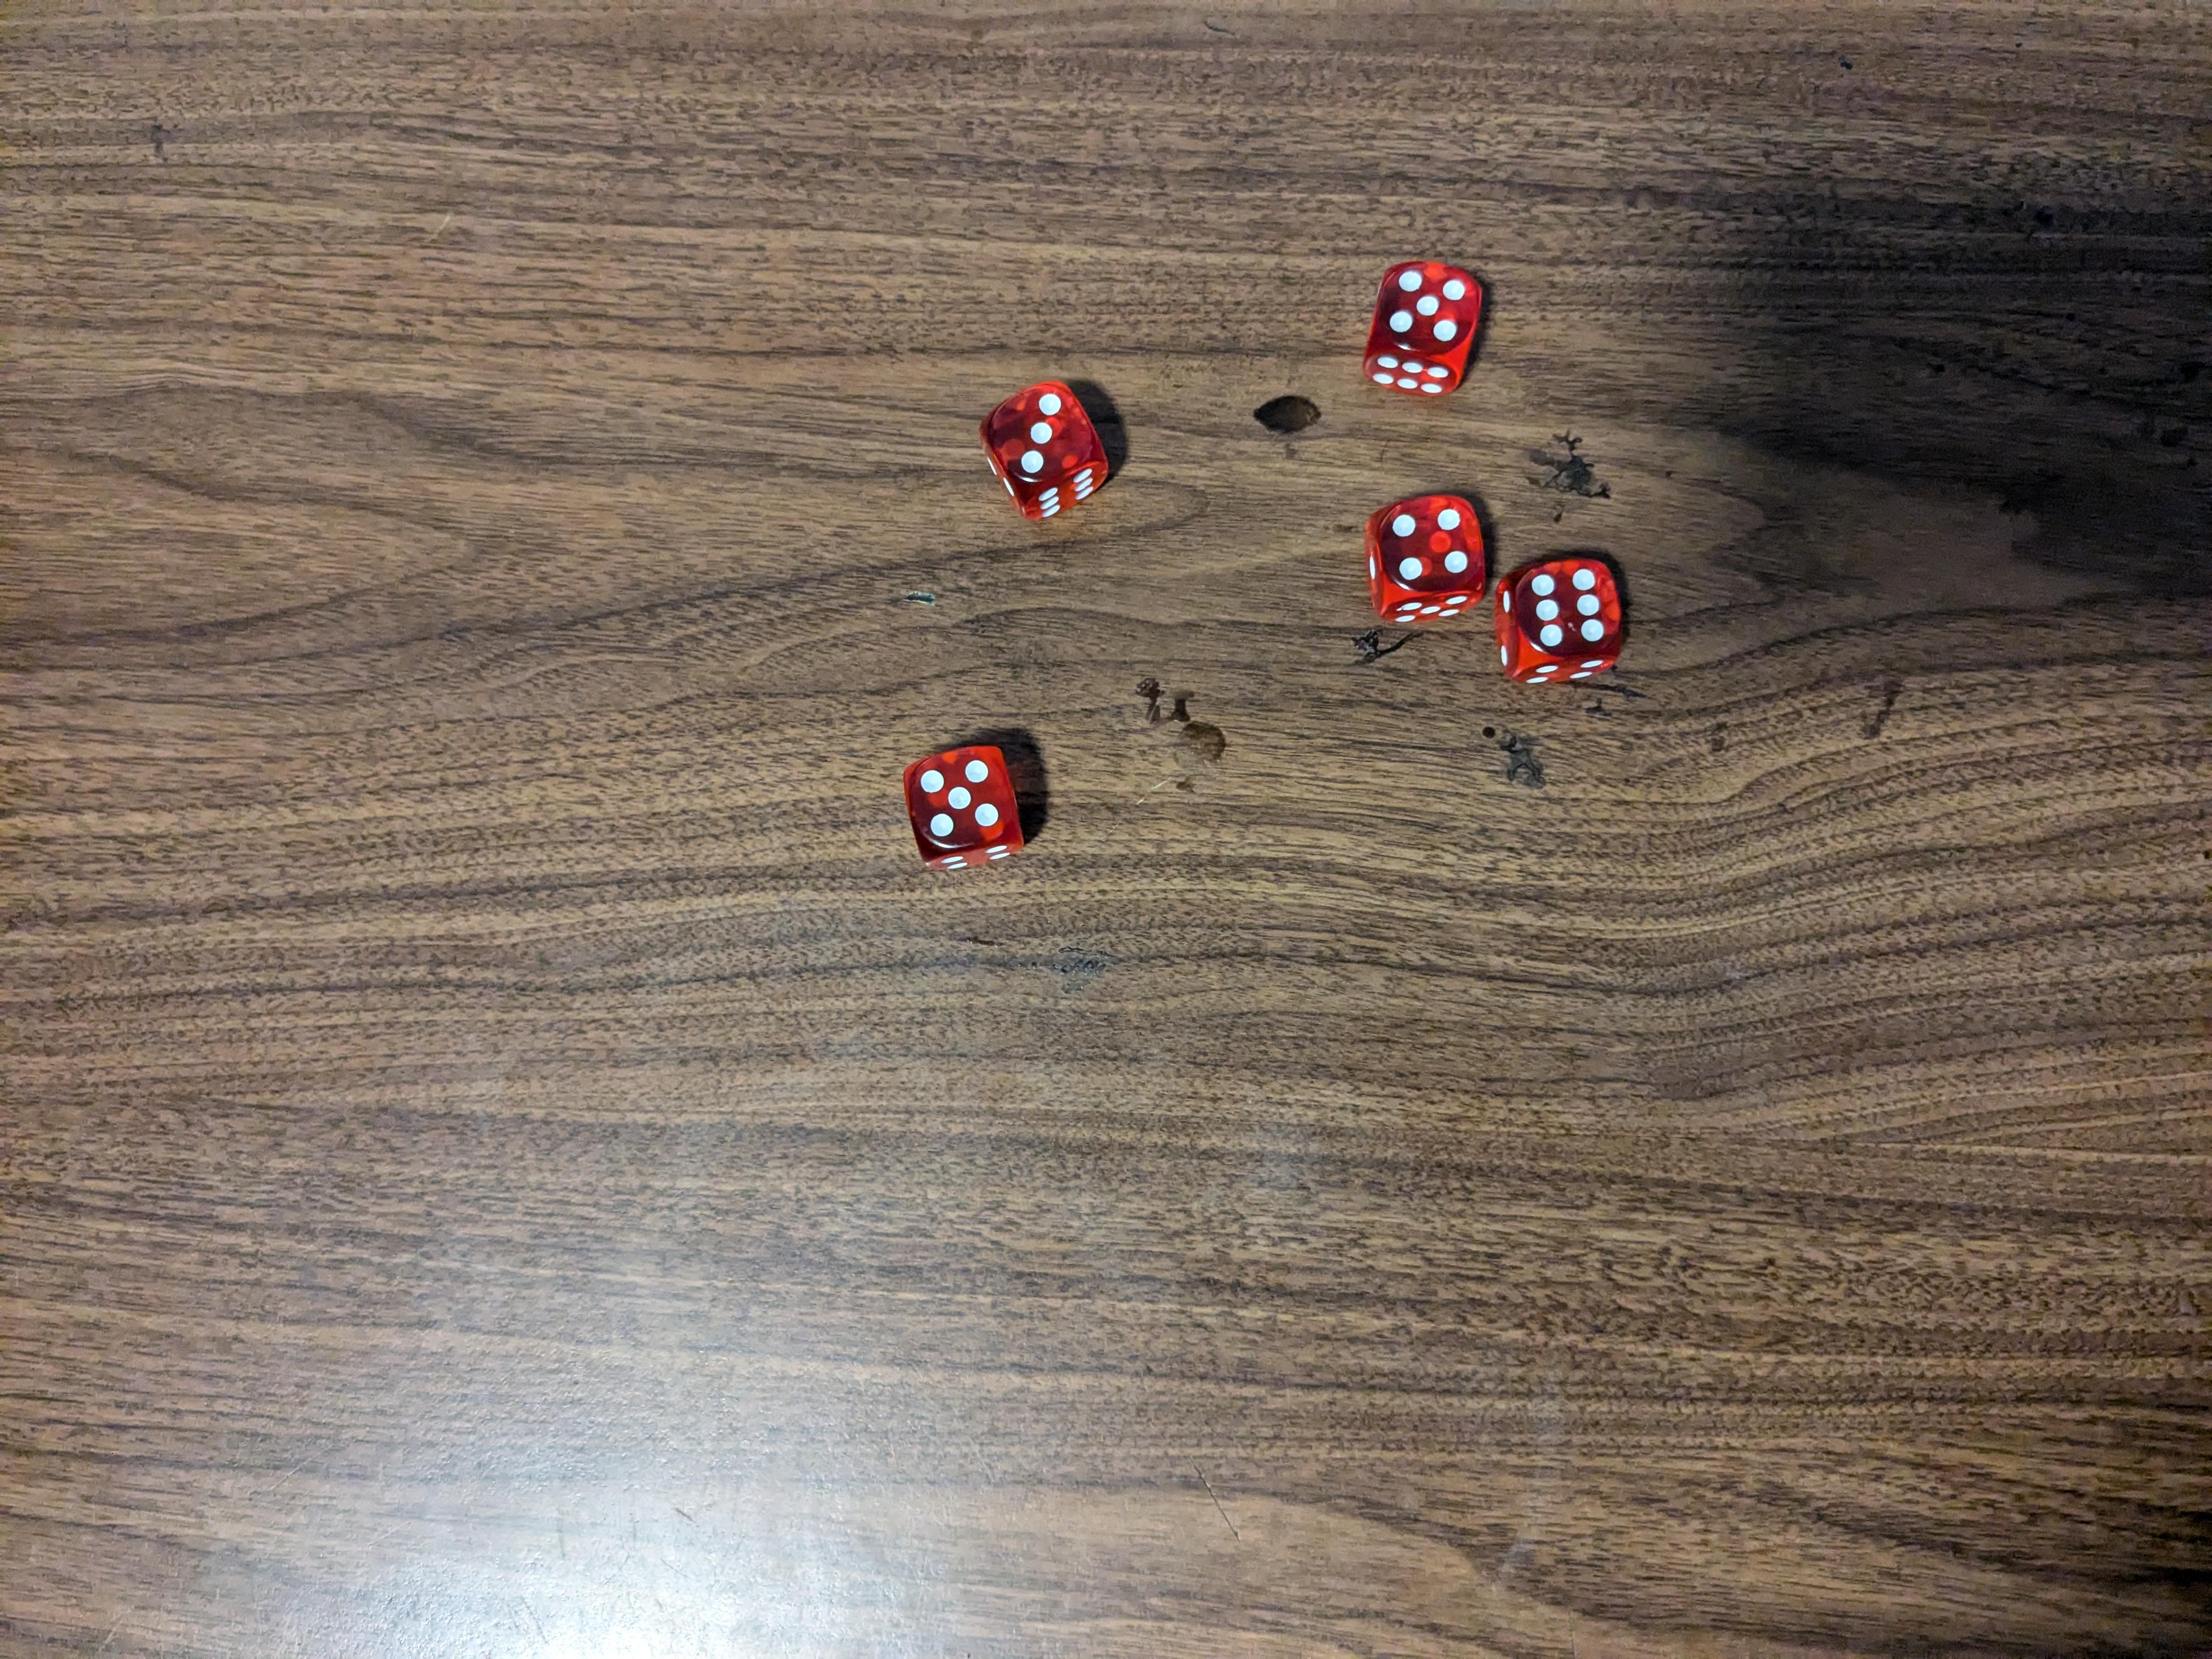five: (1367, 253, 1489, 406), (907, 739, 1028, 880)
four: (1360, 486, 1494, 629)
six: (1496, 549, 1634, 685)
three: (977, 380, 1111, 516)
